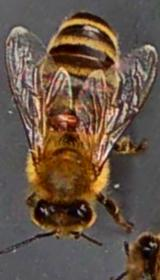varroa_mite: (43, 104, 83, 132)
